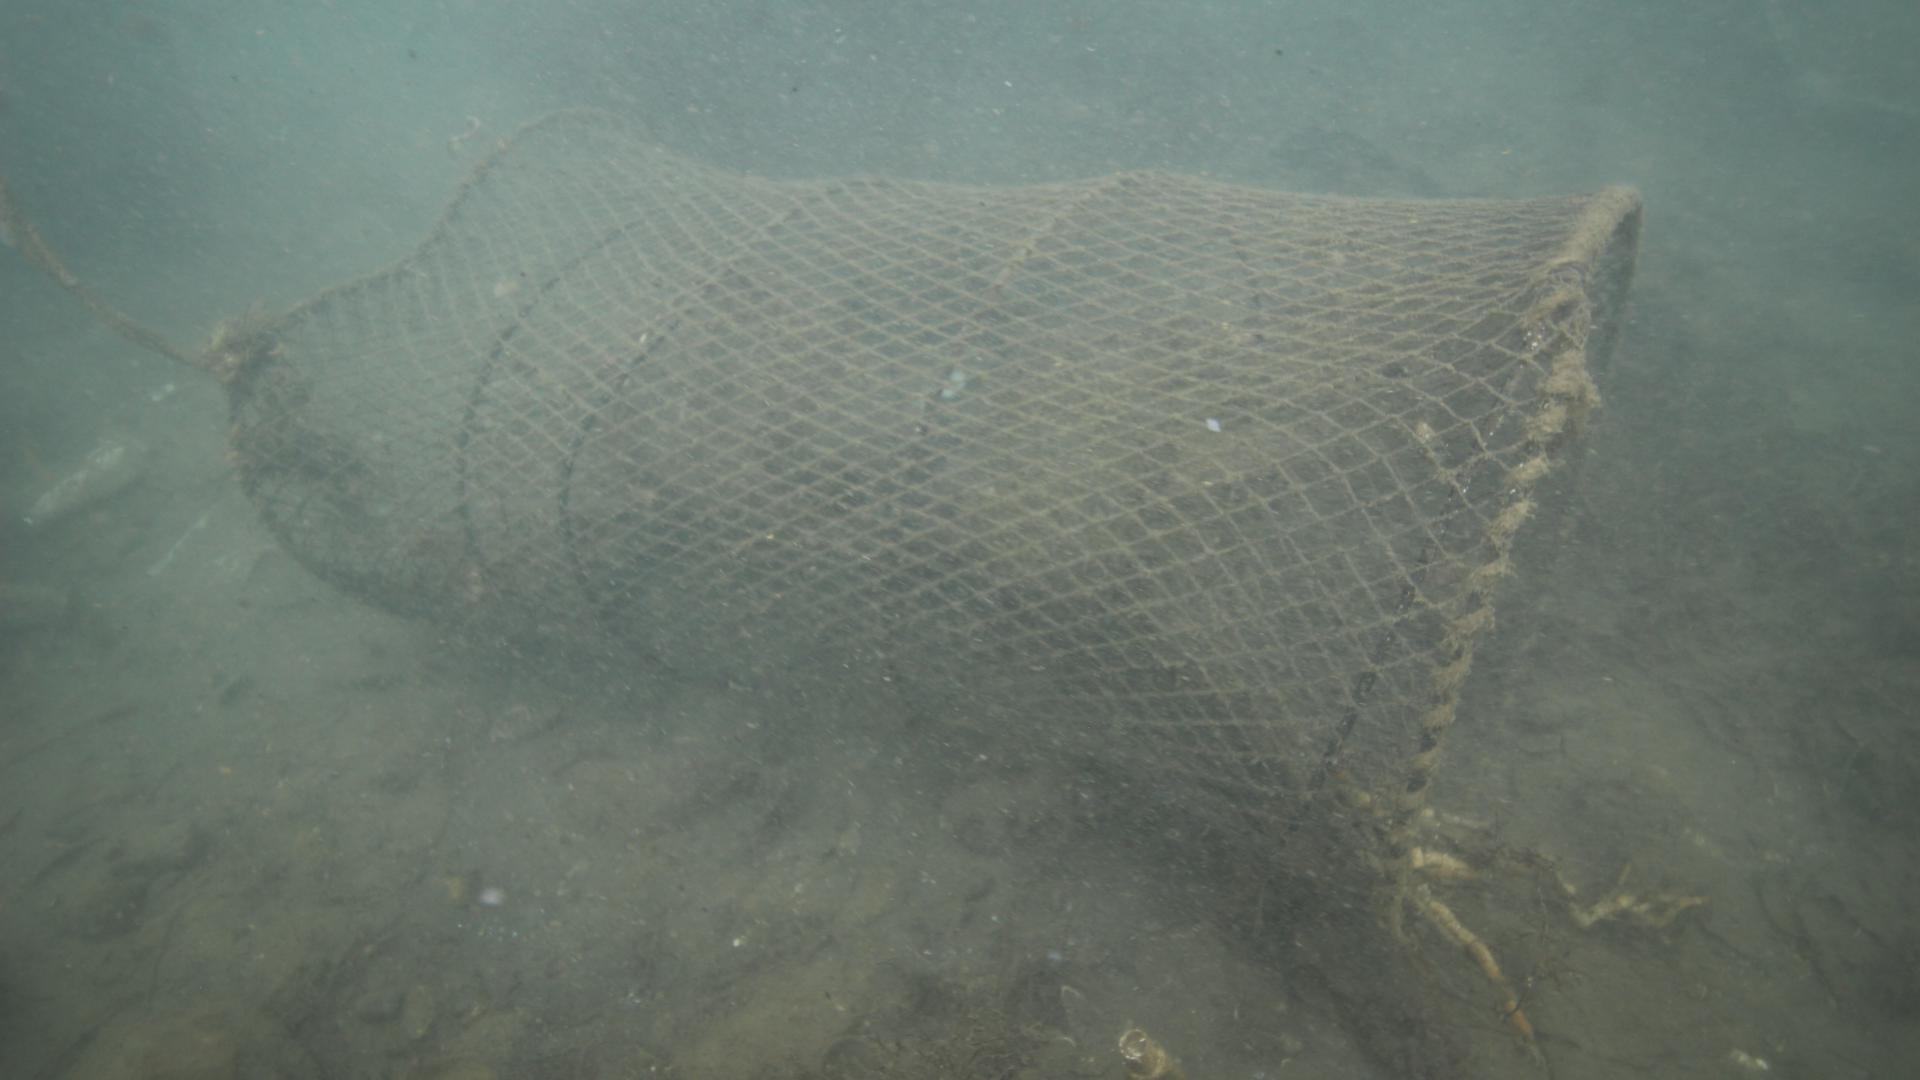spring fish trap: (225, 102, 1644, 957)
